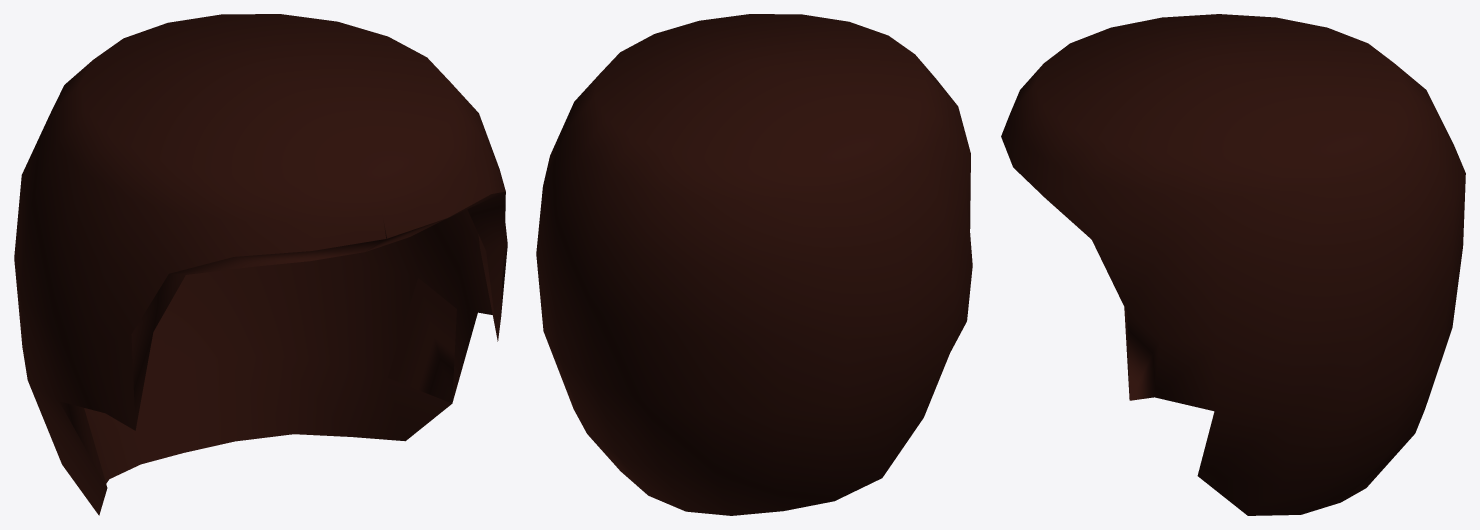
The model's file is Hair03.FBX.
3 views of the same model, side by side, from view 1: azimuth 30°, elevation 25°; view 2: azimuth 150°, elevation 25°; view 3: azimuth 270°, elevation 25° (orthographic). The views are drawn at different scales.
Visible parts, largest first — view 1: Hair03; view 2: Hair03; view 3: Hair03.
Part boxes in pixels (box(x1,y1,x2,y2)): Hair03: box(14, 14, 507, 515); Hair03: box(536, 14, 972, 515); Hair03: box(1001, 14, 1465, 515).
Size of the model in its own units: 436 by 421 by 438.
